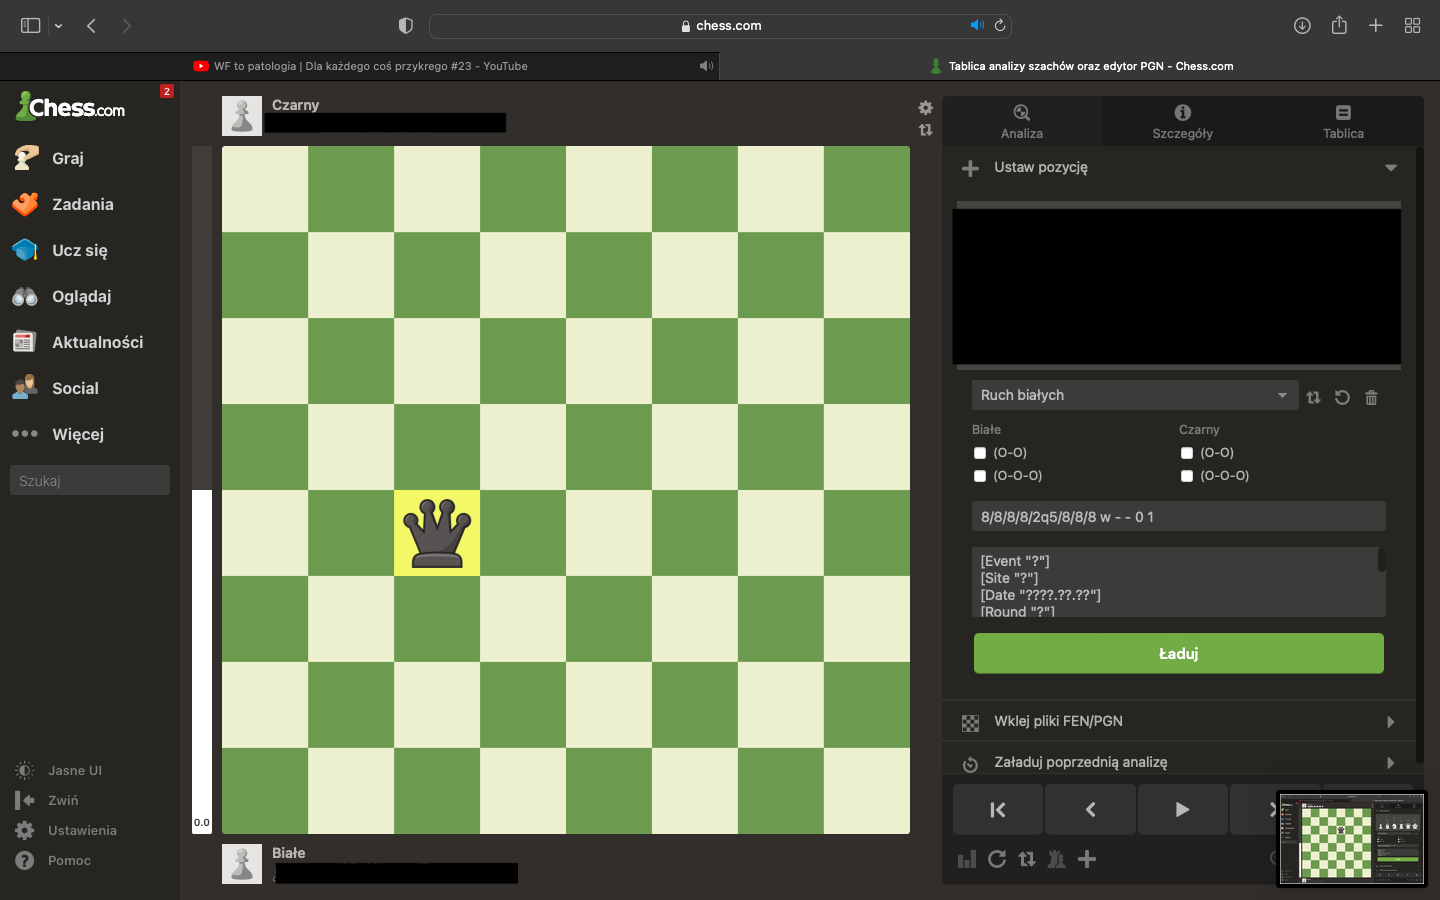black_queen: (403, 498, 472, 569)
